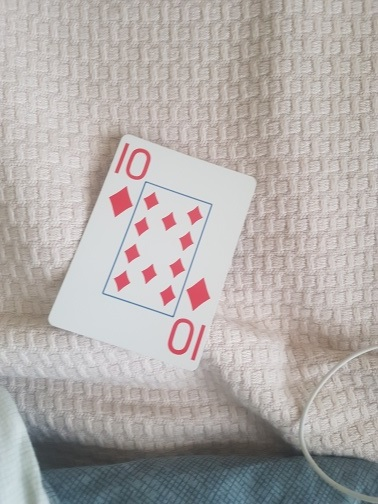ten: (47, 136, 255, 369)
